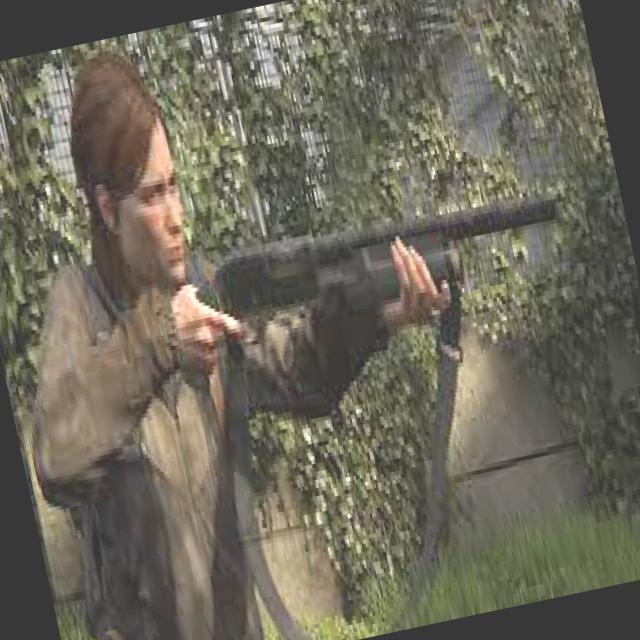long weapon: (182, 161, 596, 372)
